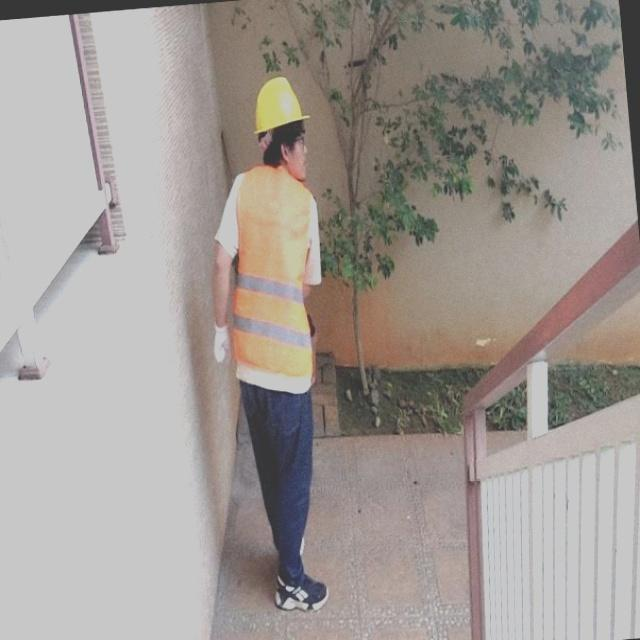Capacete: (255, 76, 308, 133)
Colete: (233, 165, 312, 377)
Pessoa: (214, 76, 327, 609)
